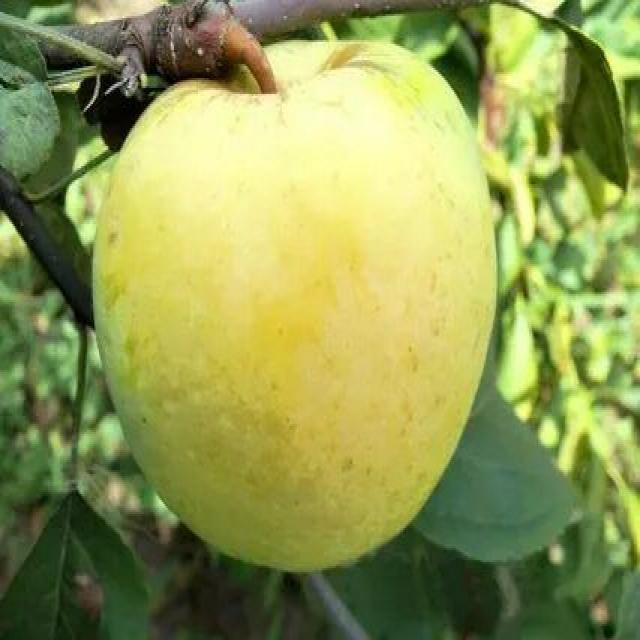Fresh Apple: (109, 53, 494, 587)
